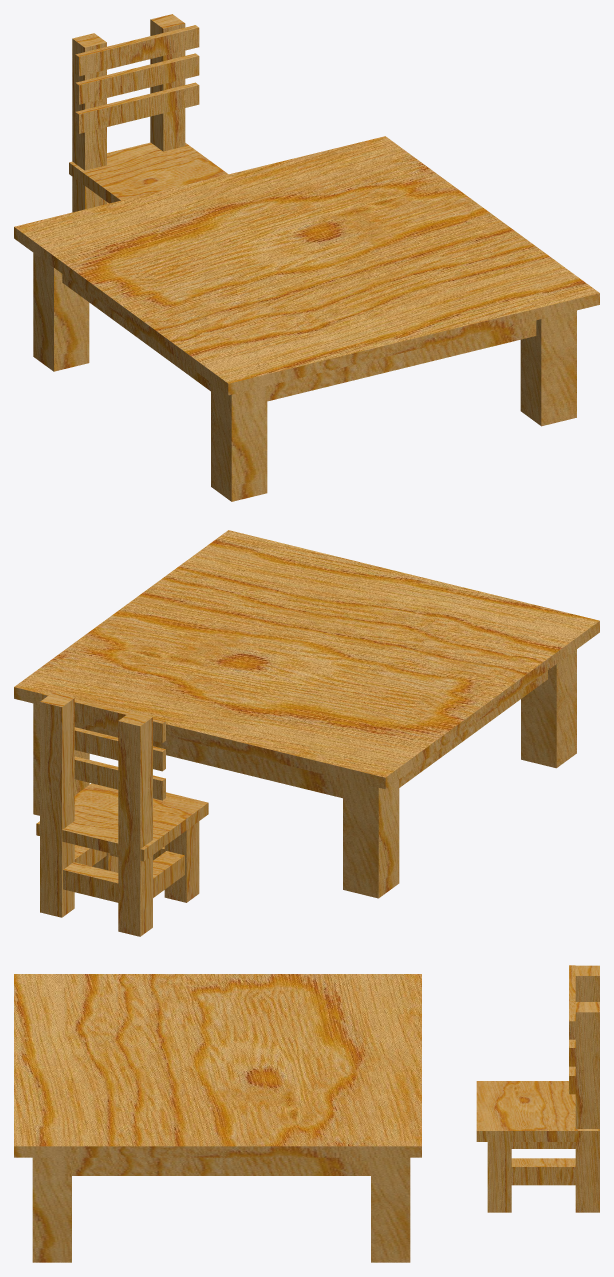
The model's file is table.FBX.
3 renders of one model, top to bottom at view 1: azimuth 30°, elevation 25°; view 2: azimuth 150°, elevation 25°; view 3: azimuth 270°, elevation 25°, orthographic. The views are drawn at different scales.
Visible parts, largest first — view 1: Box019, Box020; view 2: Box019, Box020; view 3: Box019, Box020.
Boxes of the visible parts, x1,y1,x2,y2 form: Box019: (14,136,599,501); Box020: (69,14,228,212); Box019: (14,530,599,898); Box020: (36,692,208,936); Box019: (14,974,421,1262); Box020: (476,965,599,1212).
Bounding box in the file's own units: 100 × 54.37 × 144.
